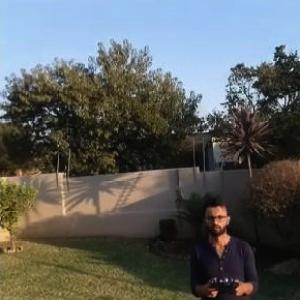follow: (185, 191, 261, 299)
